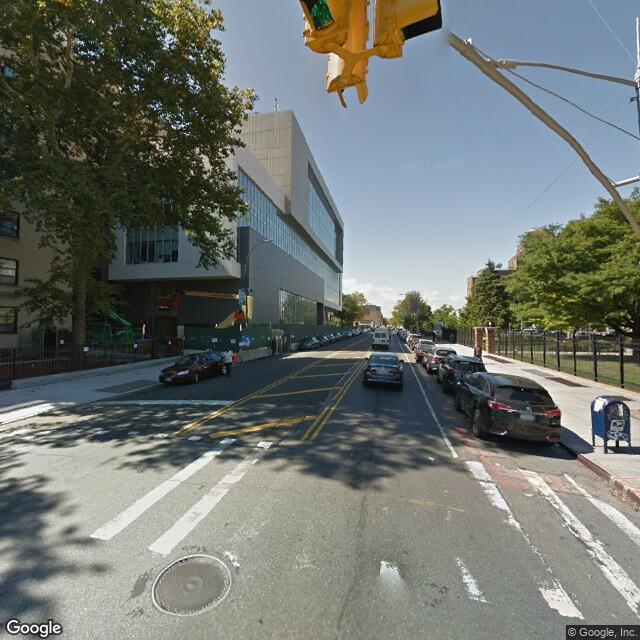litter: (427, 456, 435, 461)
